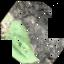Morning glory: (0, 4, 57, 64)
